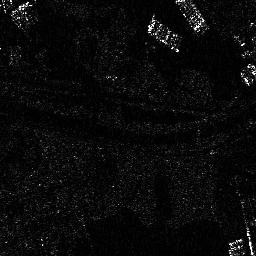ship: (146, 16, 181, 54)
